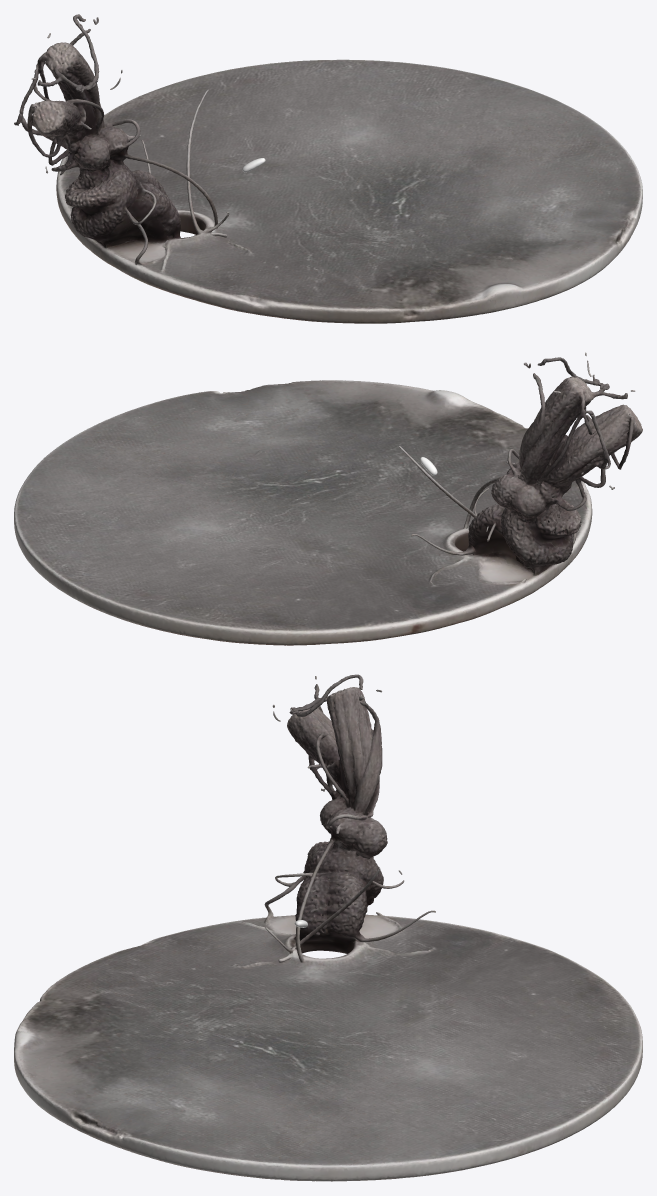
Rendered from silver_sequin.glb.
3 views of the same model, one above another, from view 1: azimuth 30°, elevation 25°; view 2: azimuth 150°, elevation 25°; view 3: azimuth 270°, elevation 25° (orthographic). The views are drawn at different scales.
Parts seen in each view (by area): view 1: world; view 2: world; view 3: world.
Boxes of the visible parts, <box> form: world: <box>14,14,642,323</box>; world: <box>14,352,642,645</box>; world: <box>14,674,642,1181</box>.
Bounding box in the file's own units: 0.9976 × 0.4022 × 0.9073.
1 material, 1 textured.
